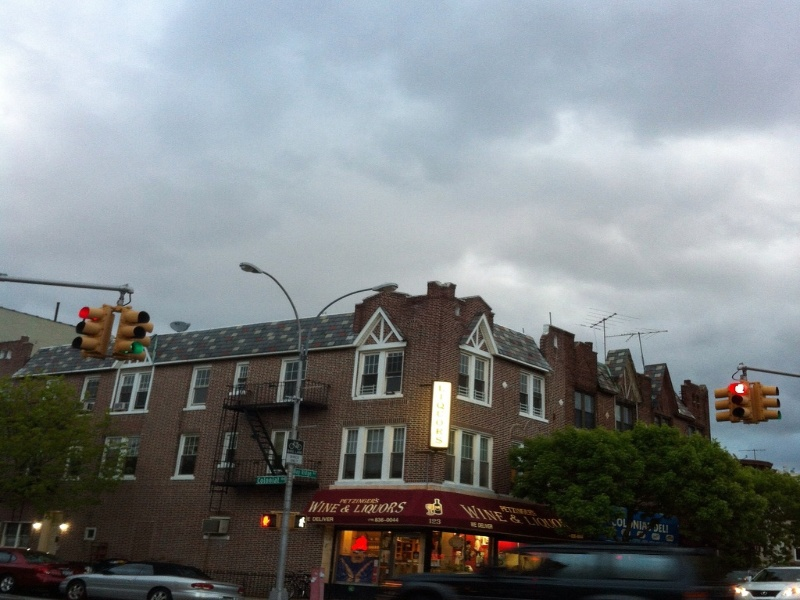red_light: (722, 375, 771, 424)
